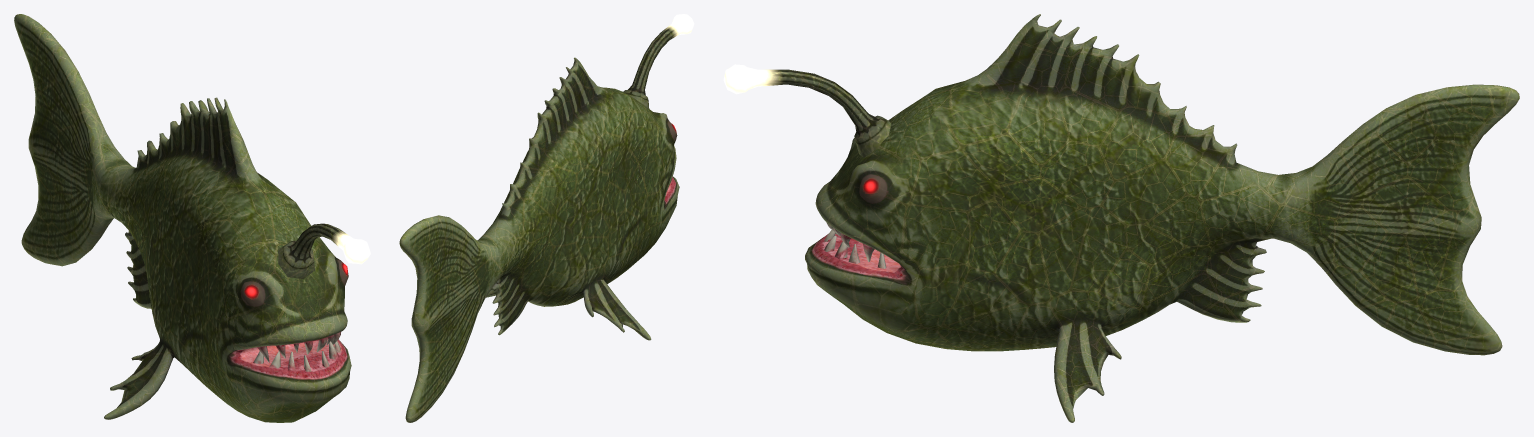
The model's file is CreatureFish02_2.FBX.
3 renders of one model, left to right at view 1: azimuth 30°, elevation 25°; view 2: azimuth 150°, elevation 25°; view 3: azimuth 270°, elevation 25°, orthographic. The views are drawn at different scales.
Parts seen in each view (by area): view 1: CreatureFish02_2; view 2: CreatureFish02_2; view 3: CreatureFish02_2.
Part boxes in pixels (<box>): CreatureFish02_2: <box>14,14,370,422</box>; CreatureFish02_2: <box>399,14,694,422</box>; CreatureFish02_2: <box>723,14,1519,422</box>.
Bounding box in the file's own units: 0.3382 × 0.4631 × 0.9533.
